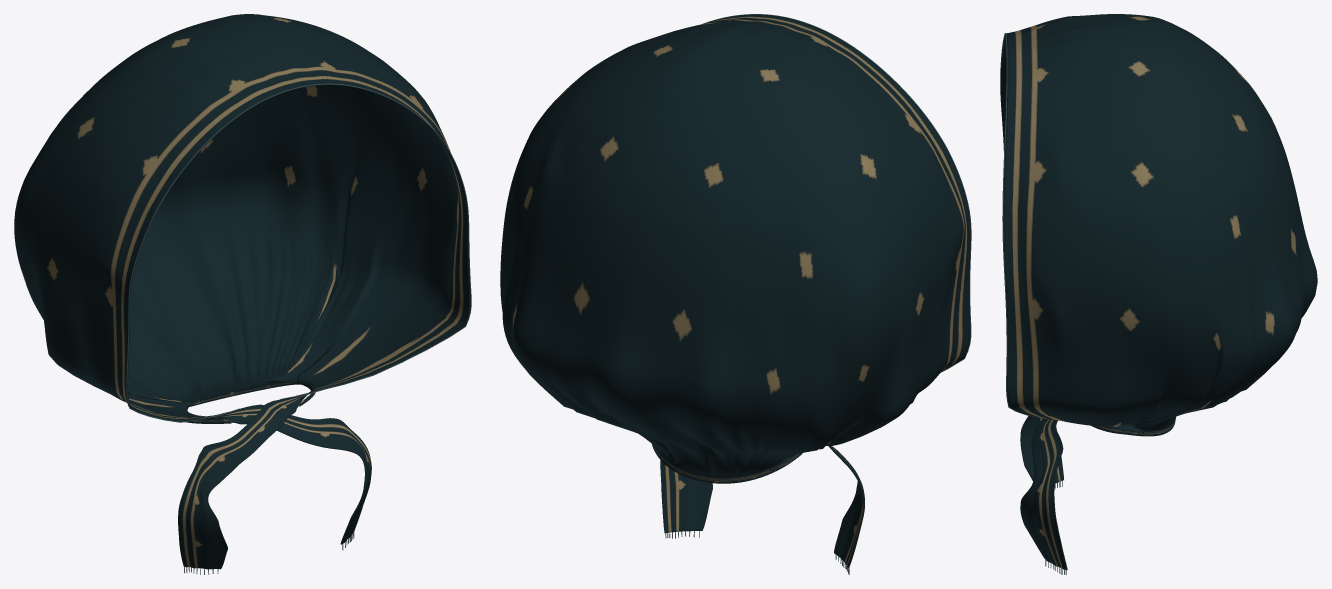
File: Feminine-bob-open-pashmina249-headgear.glb
3 views of the same model, side by side, from view 1: azimuth 30°, elevation 25°; view 2: azimuth 150°, elevation 25°; view 3: azimuth 270°, elevation 25° (orthographic). The views are drawn at different scales.
Parts seen in each view (by area): view 1: 226 headgear / Headwear / continuous woven pashmina239, 226 headgear / Headwear / face edge239; view 2: 226 headgear / Headwear / continuous woven pashmina239, 226 headgear / Headwear / face edge239; view 3: 226 headgear / Headwear / continuous woven pashmina239, 226 headgear / Headwear / face edge239.
Part boxes in pixels (left/top/right/bottom): 226 headgear / Headwear / continuous woven pashmina239: left=14, top=14, right=470, bottom=569; 226 headgear / Headwear / face edge239: left=126, top=83, right=471, bottom=422; 226 headgear / Headwear / continuous woven pashmina239: left=500, top=14, right=970, bottom=568; 226 headgear / Headwear / face edge239: left=703, top=14, right=971, bottom=372; 226 headgear / Headwear / continuous woven pashmina239: left=1000, top=14, right=1317, bottom=570; 226 headgear / Headwear / face edge239: left=1000, top=33, right=1049, bottom=419.
Size of the model in its own units: 1.08 by 1.41 by 0.806.
Materials: 3 (1 with a texture image).
